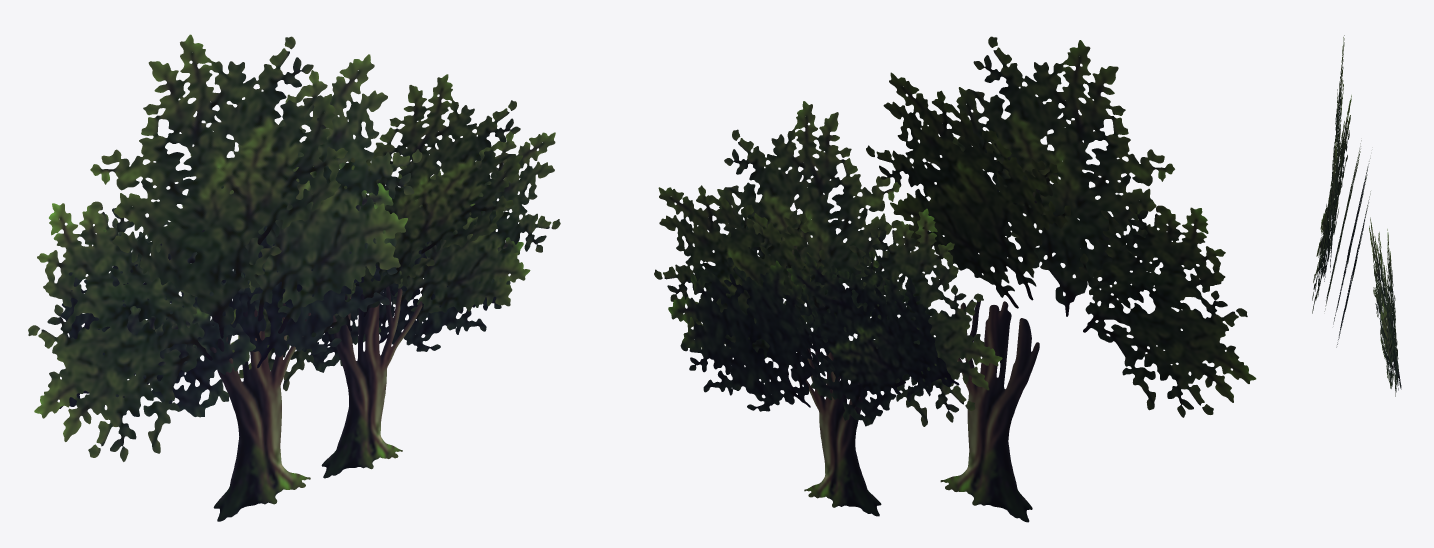
Rendered from Castle Tower_Trees BG B.FBX.
The picture shows the model from 3 angles, left to right: view 1: azimuth 30°, elevation 25°; view 2: azimuth 150°, elevation 25°; view 3: azimuth 270°, elevation 25°; orthographic projection. The views are drawn at different scales.
Parts seen in each view (by area): view 1: Trees BG B; view 2: Trees BG B; view 3: Trees BG B.
Part boxes in pixels (x1,y1,x2,y2): Trees BG B: (28,34,560,521); Trees BG B: (654,36,1256,522); Trees BG B: (1312,35,1401,396).
Size of the model in its own units: 1123 by 226 by 906.
